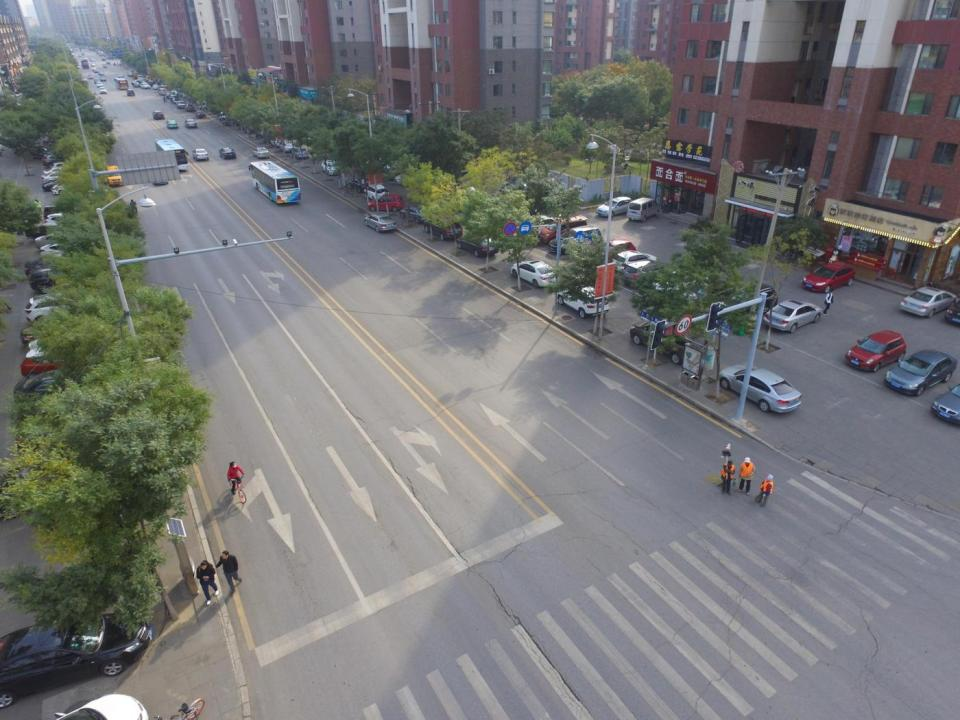bus: (249, 162, 301, 205), (154, 139, 188, 172), (114, 78, 128, 89)
car: (0, 610, 156, 704), (0, 457, 91, 522), (15, 407, 106, 458), (717, 361, 802, 412), (630, 314, 706, 366), (15, 370, 105, 410), (884, 351, 955, 396), (20, 351, 104, 384), (846, 330, 906, 372), (680, 277, 736, 320), (720, 283, 777, 325), (26, 294, 94, 326), (28, 267, 100, 297), (19, 323, 91, 353), (762, 301, 821, 335), (556, 283, 610, 320), (578, 239, 638, 272), (24, 337, 97, 364), (899, 286, 957, 319), (654, 266, 706, 301), (799, 262, 856, 293), (549, 226, 602, 255), (25, 257, 85, 282), (513, 258, 562, 288), (624, 260, 674, 289), (542, 216, 590, 242), (932, 384, 960, 427), (455, 232, 498, 258), (34, 234, 84, 254), (614, 250, 658, 272), (594, 195, 635, 218), (422, 217, 463, 239), (524, 215, 566, 236), (403, 202, 436, 226), (367, 193, 403, 214), (361, 214, 396, 234), (394, 172, 432, 189), (46, 213, 80, 229), (53, 182, 88, 197), (40, 221, 75, 236), (363, 184, 389, 204), (43, 204, 74, 220), (321, 158, 344, 177), (42, 178, 73, 192), (41, 171, 72, 184), (44, 154, 72, 168), (30, 146, 56, 160), (148, 166, 168, 184), (44, 162, 74, 173), (250, 147, 269, 159), (220, 146, 236, 160), (279, 140, 296, 153), (292, 148, 310, 159), (183, 117, 198, 130), (192, 148, 208, 160), (270, 136, 285, 147), (256, 130, 269, 140), (167, 121, 178, 130), (153, 111, 164, 120), (195, 110, 206, 118), (184, 104, 195, 112), (126, 89, 135, 98), (176, 101, 186, 108), (140, 83, 151, 89), (99, 87, 107, 94), (96, 82, 103, 89), (152, 84, 160, 90), (148, 81, 156, 86), (100, 76, 106, 82), (133, 82, 139, 88), (94, 78, 100, 83), (88, 74, 93, 80), (98, 70, 104, 75), (90, 57, 95, 62), (99, 74, 105, 78), (94, 68, 99, 72), (77, 53, 82, 57), (92, 63, 96, 67), (106, 60, 110, 64), (102, 57, 106, 61), (92, 66, 95, 70), (81, 52, 84, 56)
truck: (81, 60, 89, 70)
van: (626, 199, 660, 222), (105, 164, 123, 186), (158, 88, 167, 95), (103, 63, 107, 68)
